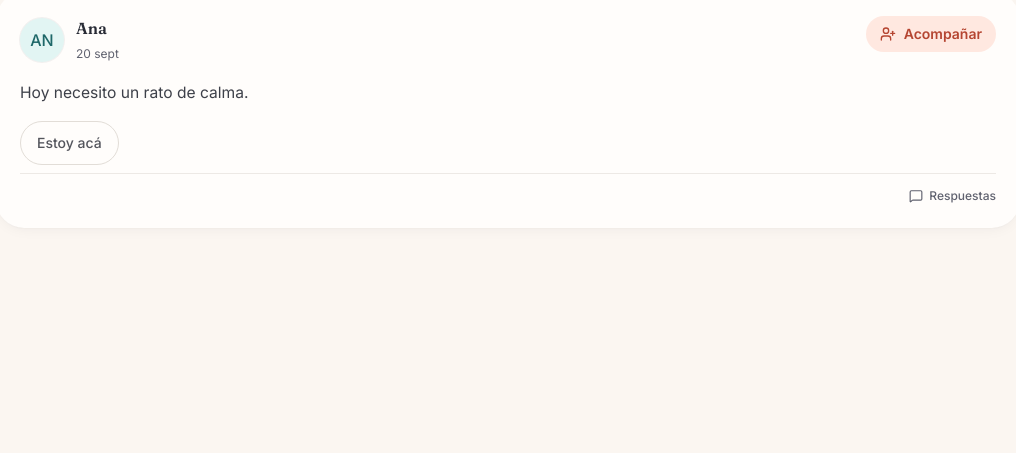
Test case: PostCard responses › rolls back when saving fails
The image size is (1016, 453).
Step 1. Click the button "Estoy acá" → x=69, y=143, box [20,121,119,165]
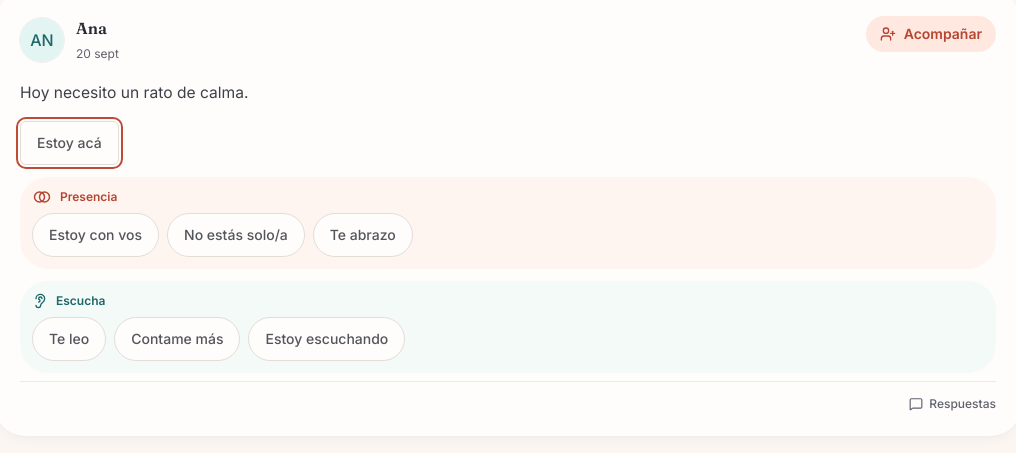
Step 2. Click the button "Estoy con vos" → x=96, y=235, box [32,213,159,257]
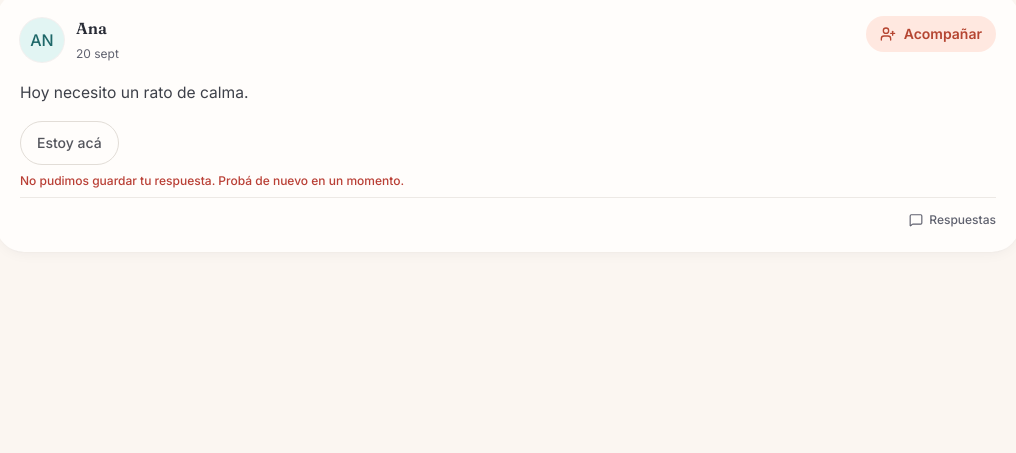
Expected: the button "Estoy acá" is shown, [20,121,119,165]
Expected: the message shows "No pudimos guardar tu respuesta.", [20,173,404,188]
